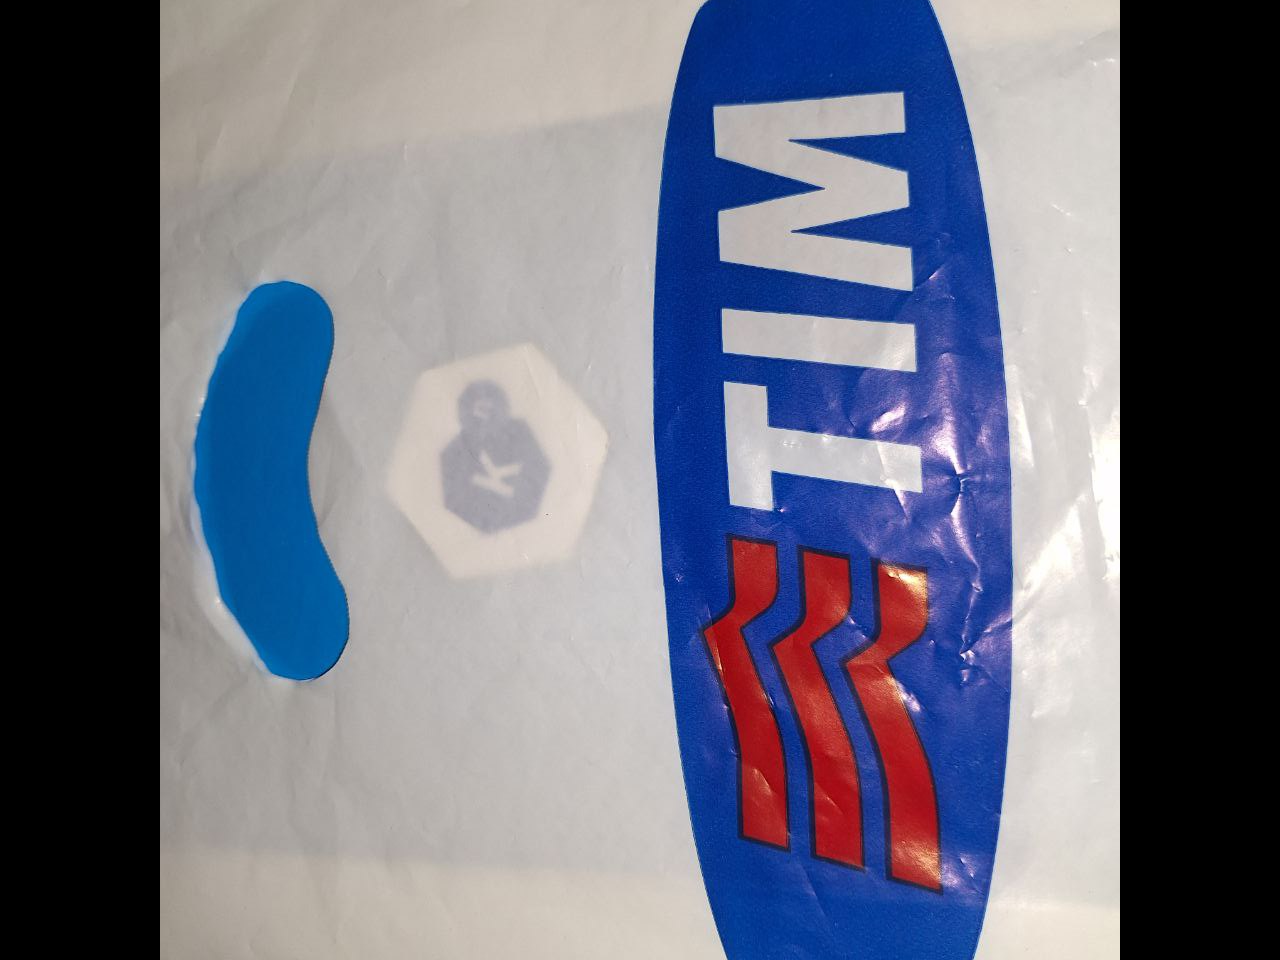knative: (438, 376, 553, 539)
